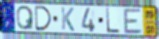4: (81, 7, 97, 34)
D: (34, 5, 53, 32)
E: (123, 8, 144, 35)
K: (60, 7, 76, 33)
L: (105, 7, 121, 35)
Q: (16, 5, 35, 32)
